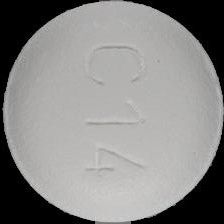49999-815: (0, 0, 224, 224)
